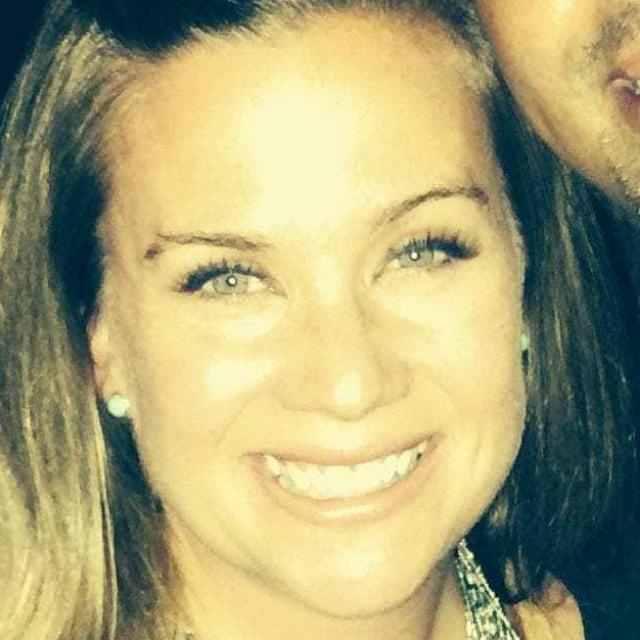Normal: (101, 14, 533, 622)
